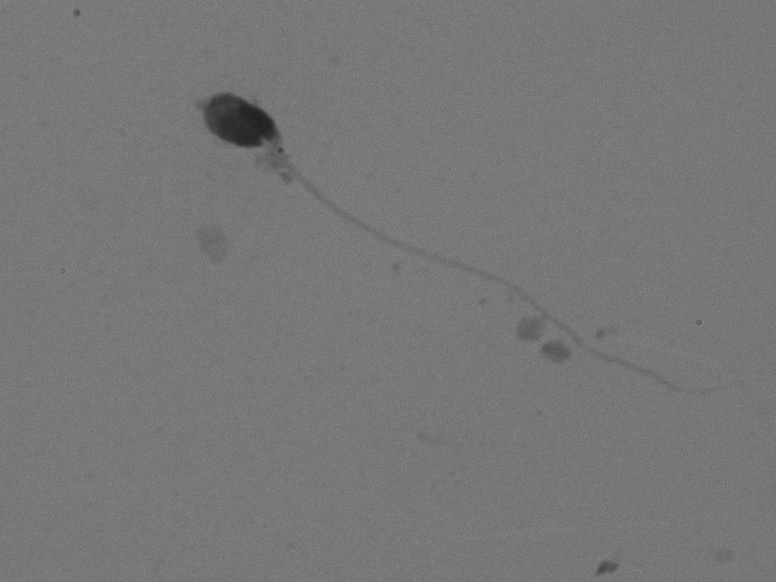Abnormal: (170, 85, 759, 456)
